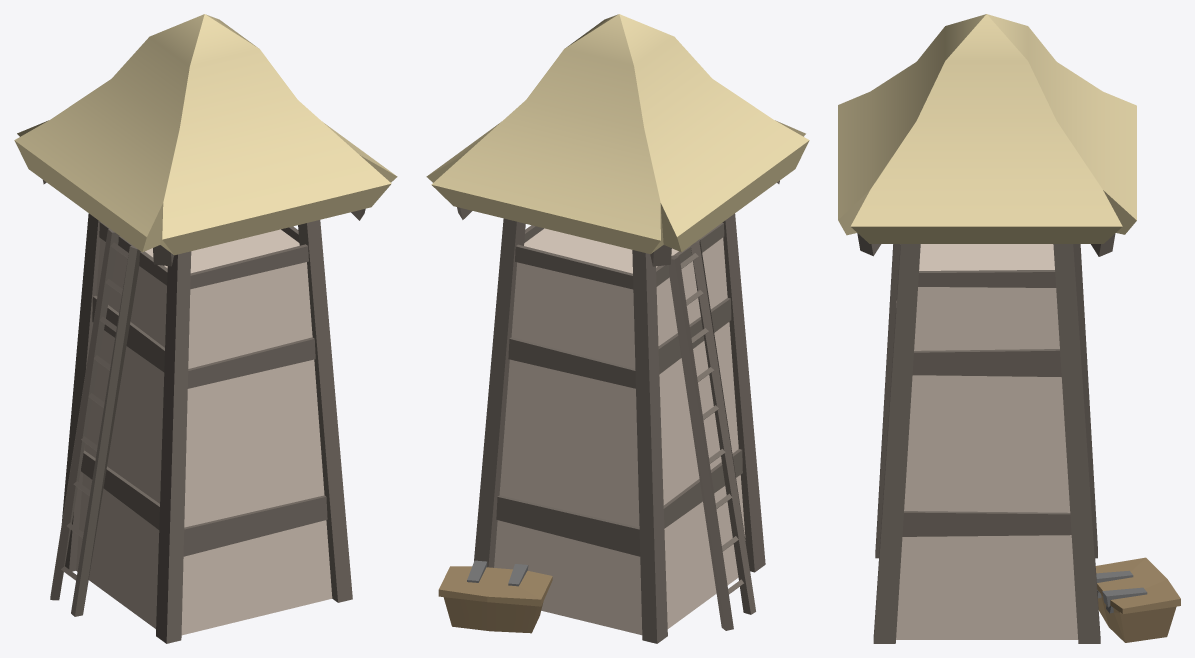
Rendered from MESH_ScoutTower.fbx.
3 views of the same model, side by side, from view 1: azimuth 30°, elevation 25°; view 2: azimuth 150°, elevation 25°; view 3: azimuth 270°, elevation 25° (orthographic). The views are drawn at different scales.
Parts seen in each view (by area): view 1: MESH_ScoutTower; view 2: MESH_ScoutTower; view 3: MESH_ScoutTower.
Part boxes in pixels (bbox=[...]): MESH_ScoutTower: bbox=[14, 14, 397, 643]; MESH_ScoutTower: bbox=[426, 14, 809, 643]; MESH_ScoutTower: bbox=[838, 14, 1180, 643].
Bounding box in the file's own units: 302 × 627 × 334.
